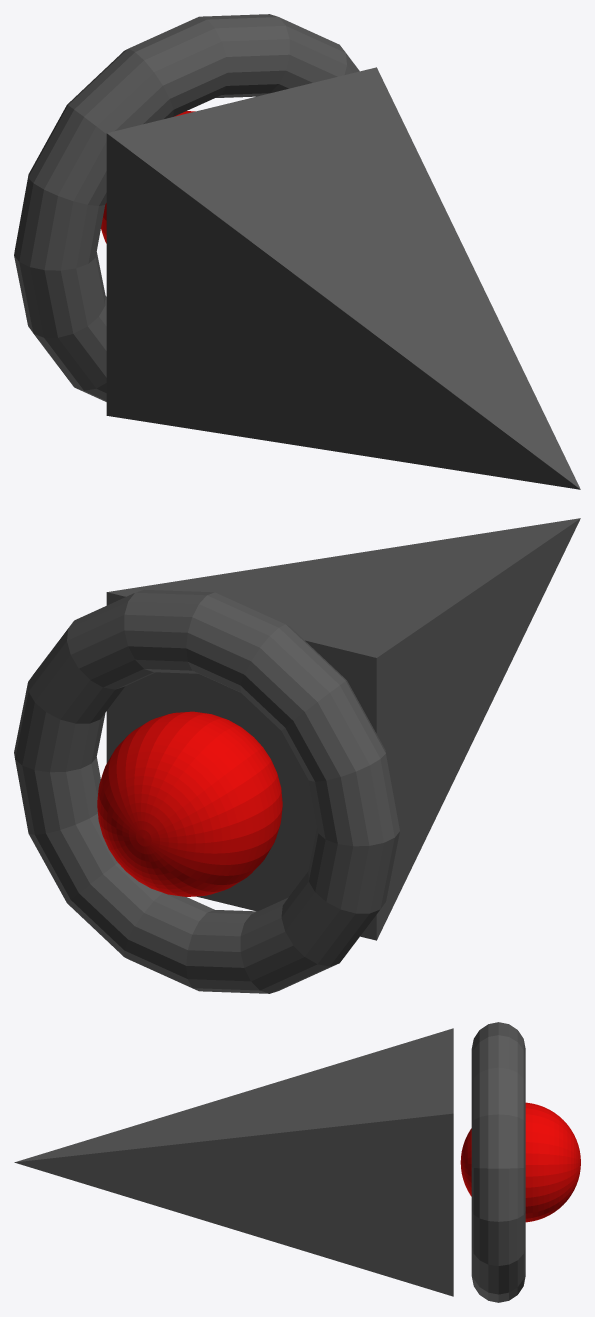
File: DummyMesh.fbx
The picture shows the model from 3 angles, top to bottom: view 1: azimuth 30°, elevation 25°; view 2: azimuth 150°, elevation 25°; view 3: azimuth 270°, elevation 25°; orthographic projection. The views are drawn at different scales.
Parts seen in each view (by area): view 1: Body, Torus; view 2: Torus, Body, Sphere; view 3: Body, Torus, Sphere.
Boxes of the visible parts, bbox=[...] form: Body: bbox=[106, 67, 580, 489]; Torus: bbox=[14, 14, 359, 401]; Torus: bbox=[14, 589, 399, 993]; Body: bbox=[106, 518, 580, 940]; Sphere: bbox=[97, 711, 282, 896]; Body: bbox=[14, 1028, 453, 1296]; Torus: bbox=[471, 1022, 525, 1302]; Sphere: bbox=[460, 1102, 580, 1222].
Bounding box in the file's own units: 102 × 102 × 205.
